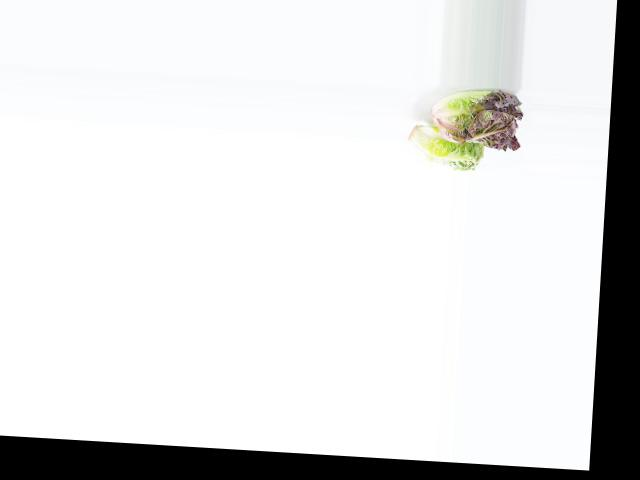lettuce: (403, 121, 487, 173)
